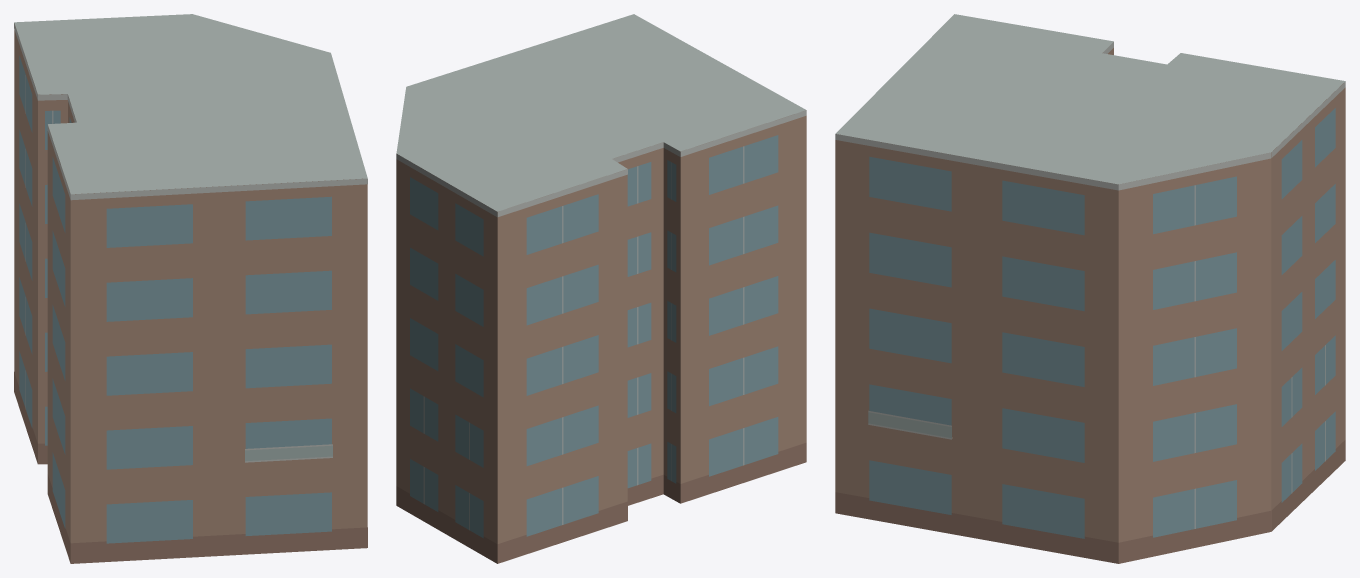
Rendered from survey-upis-32955057.glb.
3 views of the same model, side by side, from view 1: azimuth 30°, elevation 25°; view 2: azimuth 150°, elevation 25°; view 3: azimuth 270°, elevation 25° (orthographic). The views are drawn at different scales.
Visible parts, largest first — view 1: survey-upis-32955057.tmp; view 2: survey-upis-32955057.tmp; view 3: survey-upis-32955057.tmp.
Part boxes in pixels (left/top/right/bottom): survey-upis-32955057.tmp: left=14, top=14, right=367, bottom=563; survey-upis-32955057.tmp: left=396, top=14, right=806, bottom=563; survey-upis-32955057.tmp: left=835, top=14, right=1345, bottom=563.
Bounding box in the file's own units: 14.75 × 15.3 × 18.66.
